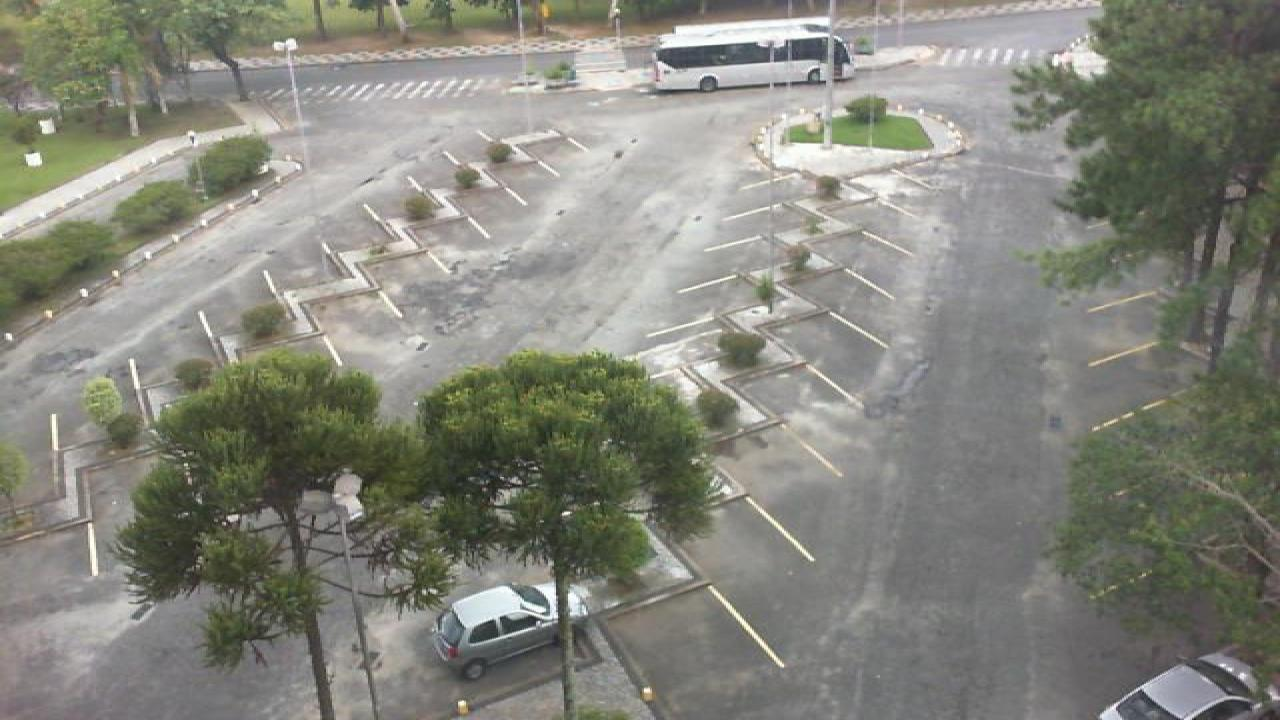Car: (428, 580, 596, 680), (1096, 651, 1264, 720)
